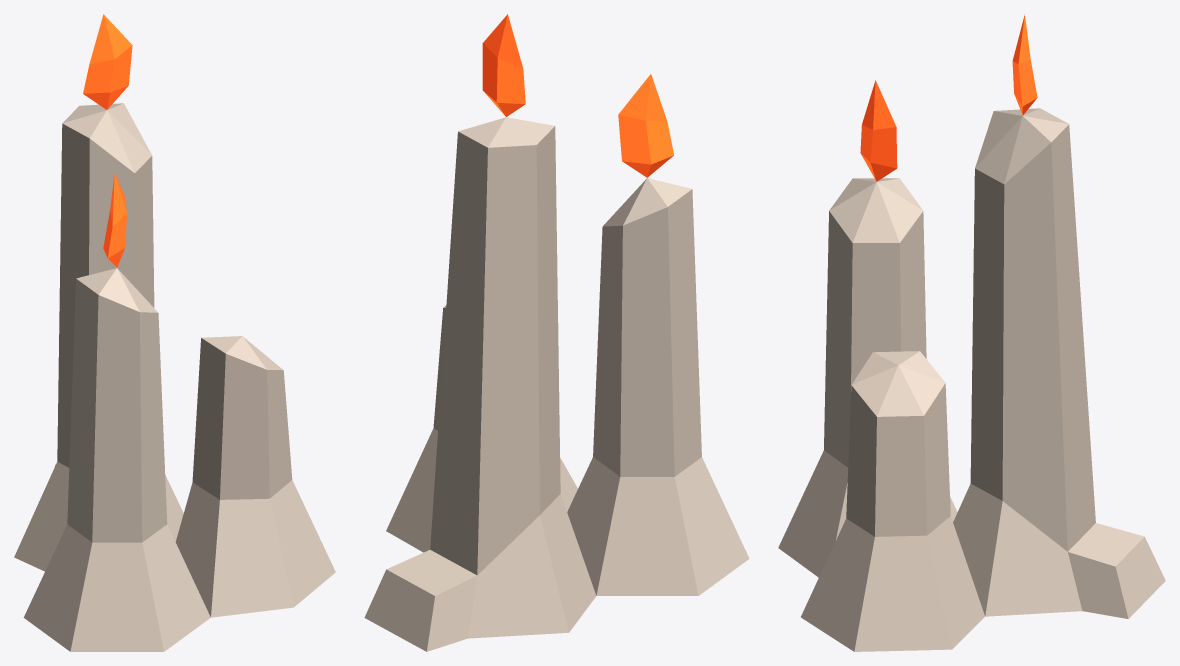
File: fantasy_candles.fbx
3 views of the same model, side by side, from view 1: azimuth 30°, elevation 25°; view 2: azimuth 150°, elevation 25°; view 3: azimuth 270°, elevation 25° (orthographic). The views are drawn at different scales.
Visible parts, largest first — view 1: fantasy_candles; view 2: fantasy_candles; view 3: fantasy_candles.
Boxes of the visible parts, x1,y1,x2,y2 form: fantasy_candles: [14, 14, 335, 651]; fantasy_candles: [364, 14, 749, 651]; fantasy_candles: [778, 14, 1165, 651].
Size of the model in its own units: 108 by 200 by 125.
